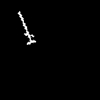double_crochet: (18, 12, 35, 44)
